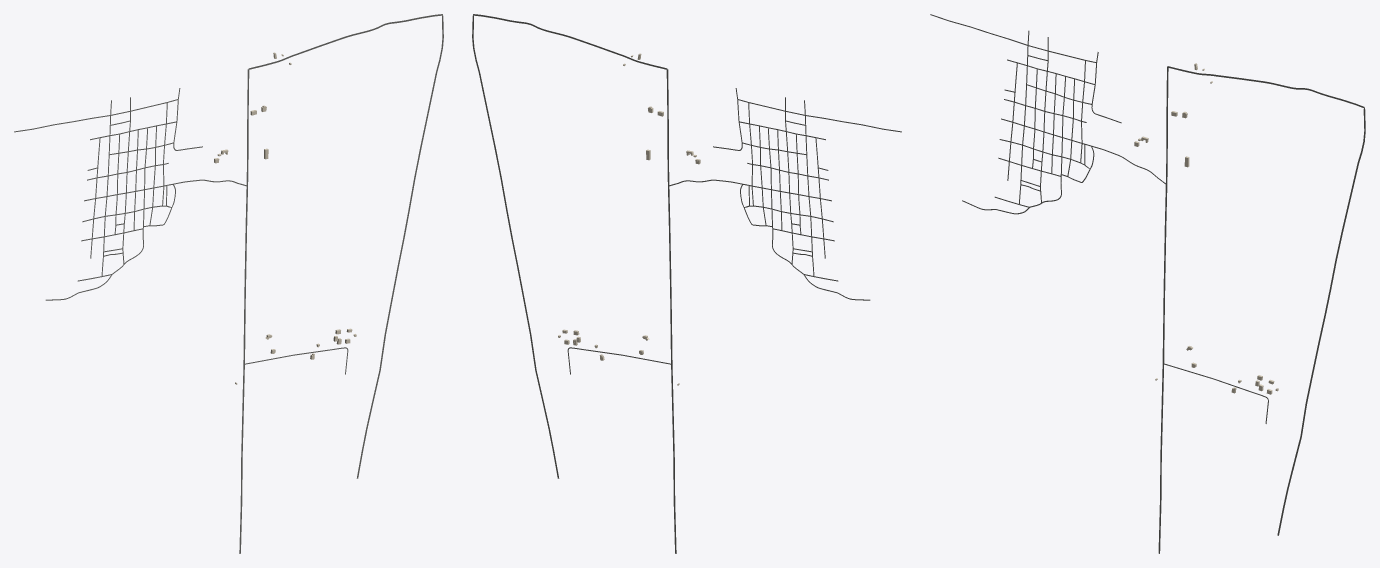
The model's file is irbid_3591_3247.glb.
3 renders of one model, left to right at view 1: azimuth 30°, elevation 25°; view 2: azimuth 150°, elevation 25°; view 3: azimuth 330°, elevation 25°, orthographic.
Visible parts, largest first — view 1: Road .027, Road .026; view 2: Road .027, Road .026; view 3: Road .027, Road .026.
Boxes of the visible parts, bbox=[...] form: Road .027: bbox=[248, 14, 443, 478]; Road .026: bbox=[239, 69, 249, 553]; Road .027: bbox=[472, 14, 667, 478]; Road .026: bbox=[666, 69, 676, 553]; Road .027: bbox=[1167, 66, 1365, 535]; Road .026: bbox=[1158, 66, 1168, 553].
Bounding box in the file's own units: 1404 × 1545 × 8.7.
